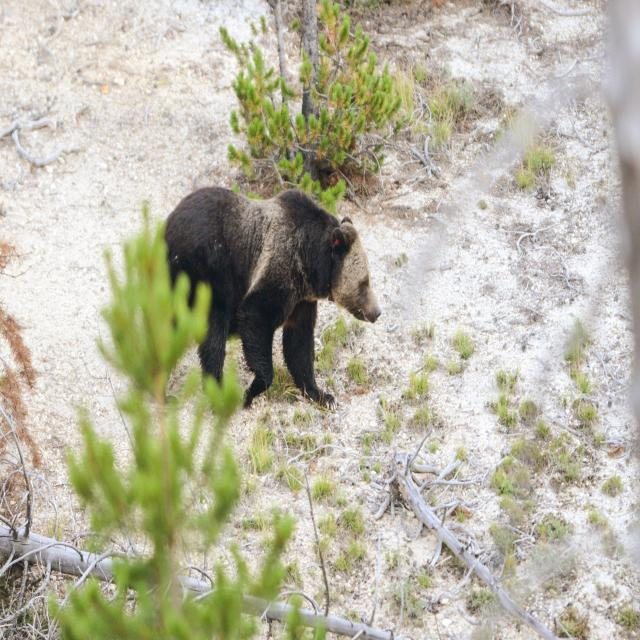Bear: (162, 188, 380, 406)
